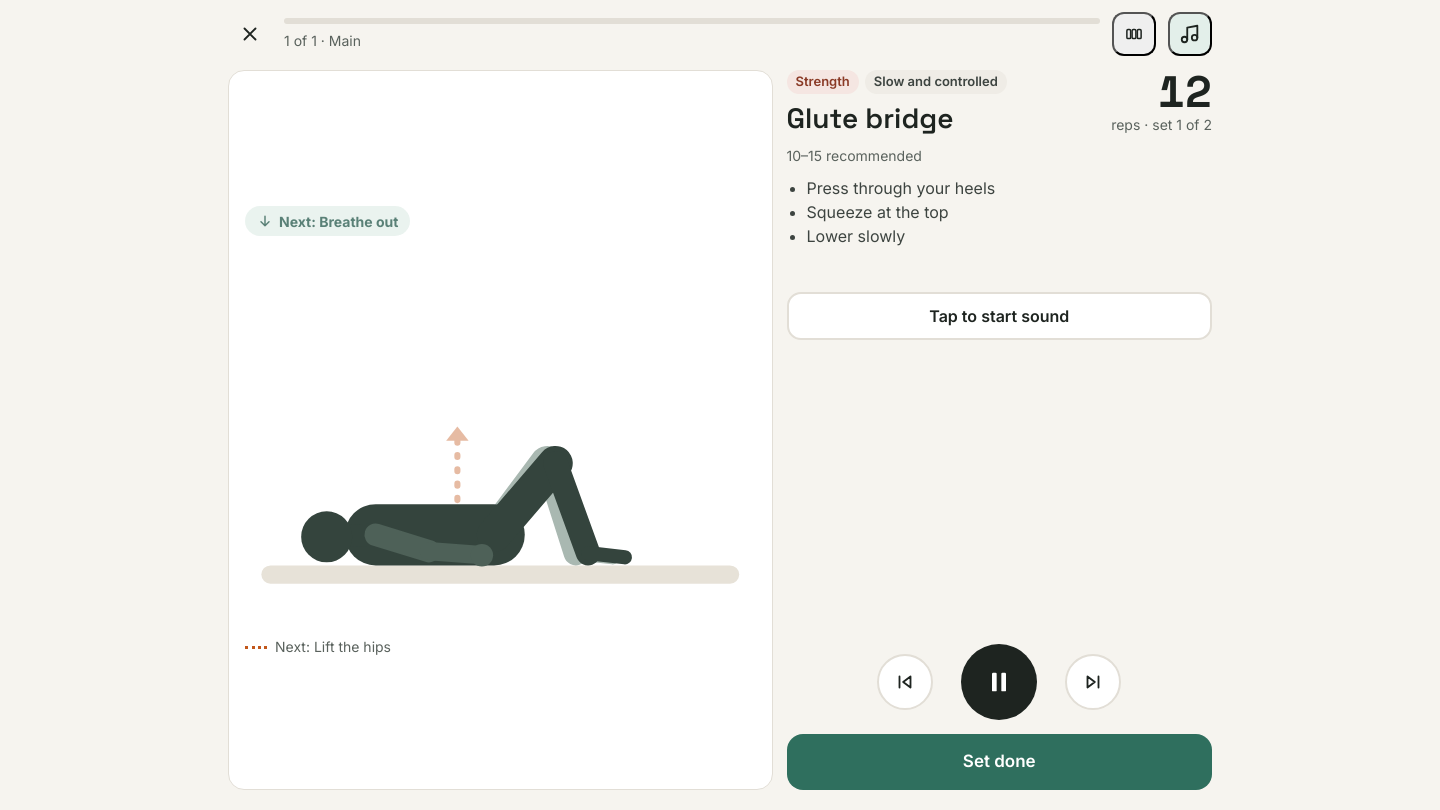
Test: PlayerScreen sound (009) › asks for a tap when the browser keeps audio off
The image size is (1440, 810).
What coordinates should you click on to do the following:
click the button "Tap to start sound"
I would click on:
 (999, 316)
Its box is [786,292,1212,340].
Wait 600 ms
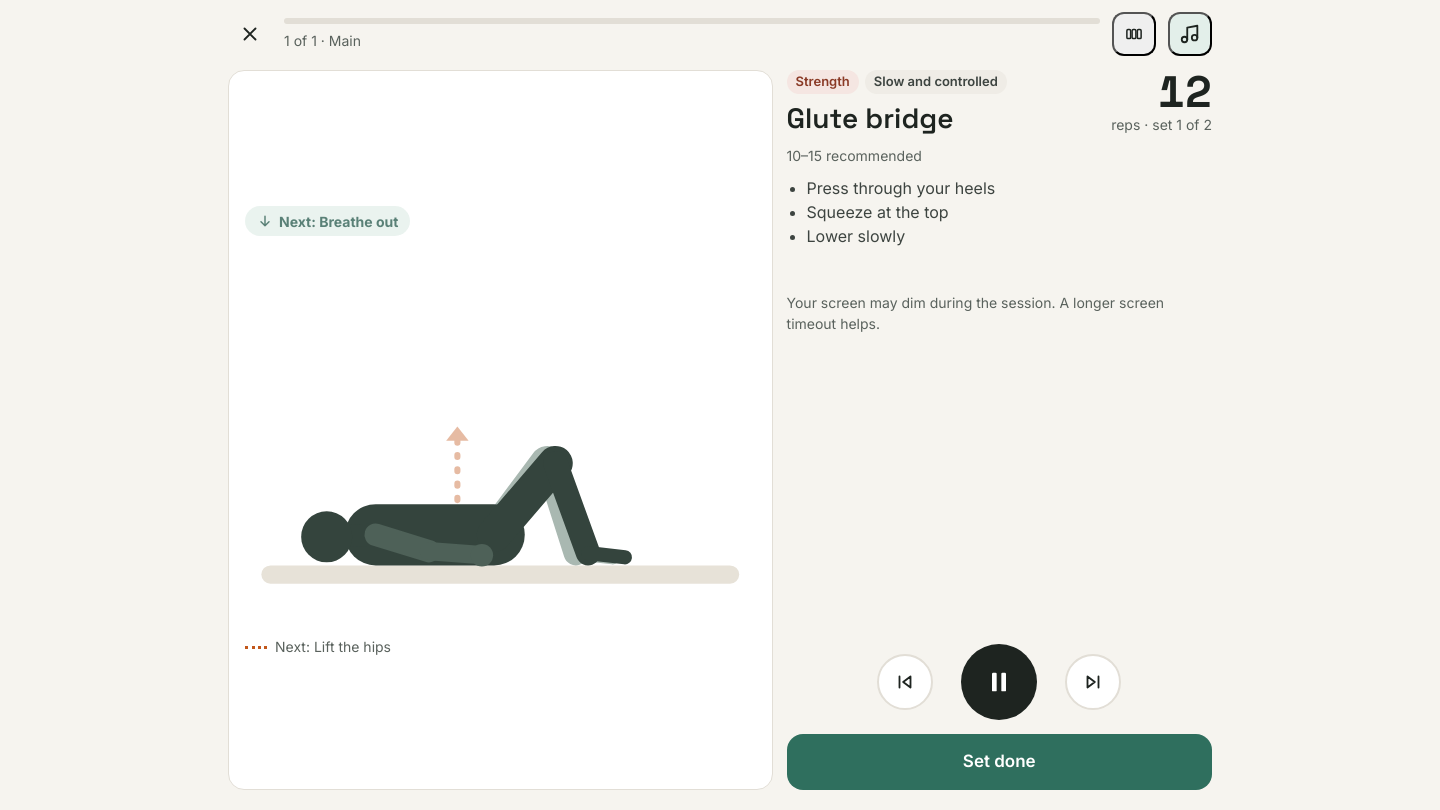
Check: the button "Tap to start sound" is gone
